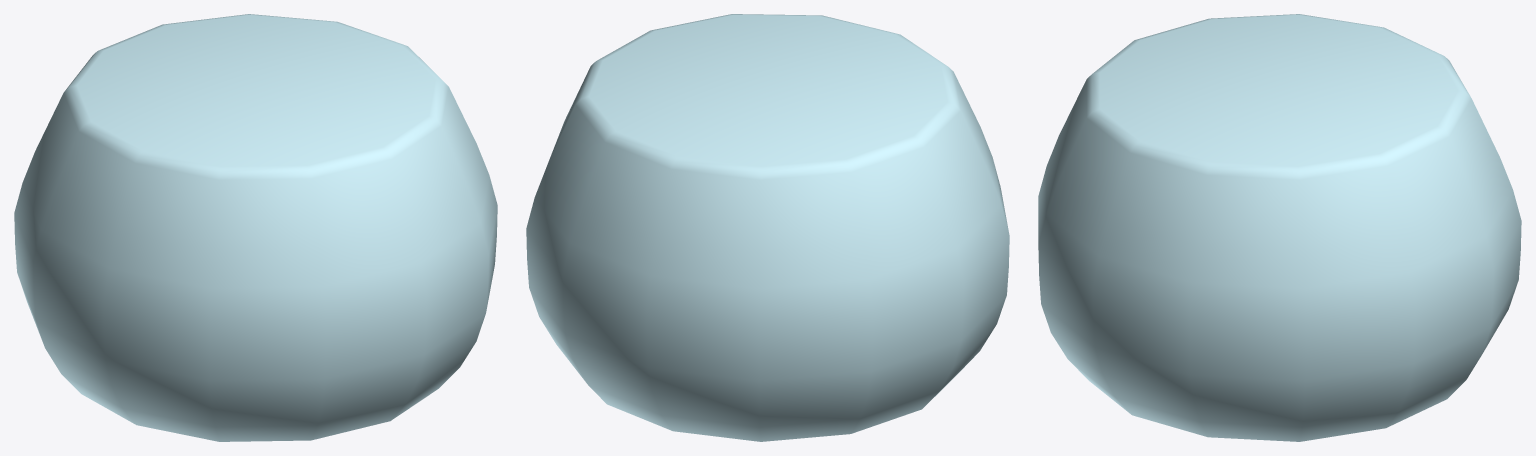
Rendered from WaterShot_Half.fbx.
3 views of the same model, side by side, from view 1: azimuth 30°, elevation 25°; view 2: azimuth 150°, elevation 25°; view 3: azimuth 270°, elevation 25° (orthographic).
Visible parts, largest first — view 1: WaterShot_Half; view 2: WaterShot_Half; view 3: WaterShot_Half.
Part boxes in pixels (x1,y1,x2,y2): WaterShot_Half: [14, 14, 497, 441]; WaterShot_Half: [526, 14, 1009, 441]; WaterShot_Half: [1038, 14, 1521, 441].
Bounding box in the file's own units: 45.32 × 30.5 × 45.31.
